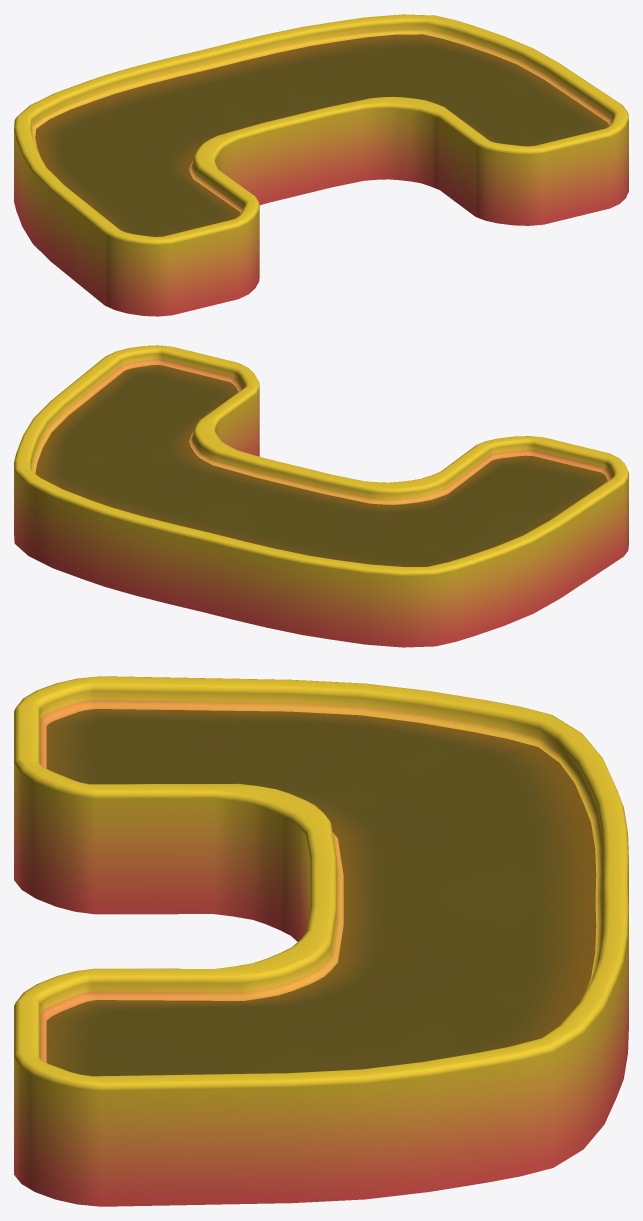
File: TrimExample.fbx
The picture shows the model from 3 angles, top to bottom: view 1: azimuth 30°, elevation 25°; view 2: azimuth 150°, elevation 25°; view 3: azimuth 270°, elevation 25°; orthographic projection. The views are drawn at different scales.
Parts seen in each view (by area): view 1: GardenBed_Final_TrimExample; view 2: GardenBed_Final_TrimExample; view 3: GardenBed_Final_TrimExample.
Part boxes in pixels (x1,y1,x2,y2): GardenBed_Final_TrimExample: [14, 14, 628, 316]; GardenBed_Final_TrimExample: [14, 345, 628, 647]; GardenBed_Final_TrimExample: [14, 676, 628, 1206].
Size of the model in its own units: 704 by 97.16 by 445.
Materials: 1 (1 with a texture image).
